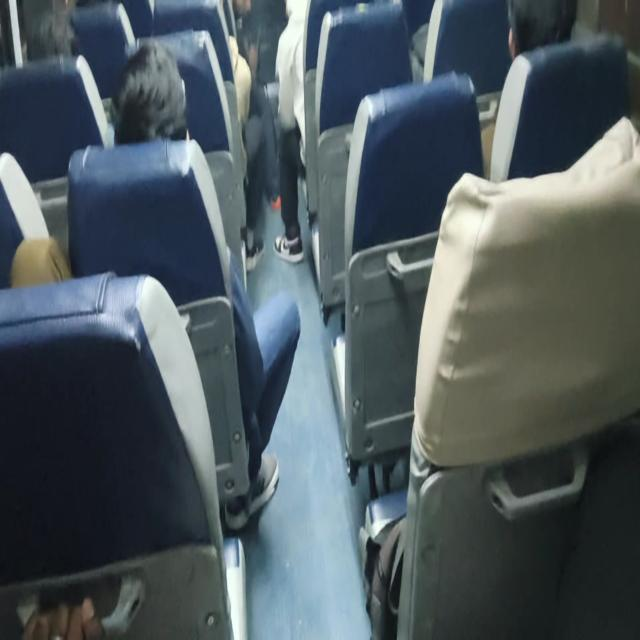person: (109, 39, 301, 530), (480, 0, 577, 179), (272, 0, 310, 264), (110, 40, 189, 146), (507, 0, 577, 62)
